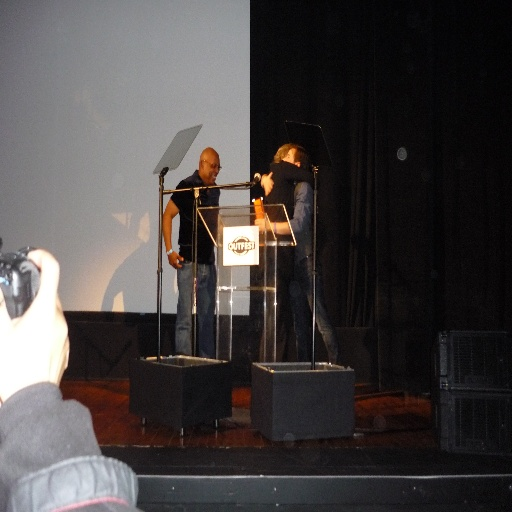hand: (0, 247, 70, 405), (260, 169, 274, 196), (167, 250, 184, 269), (253, 214, 272, 231)
